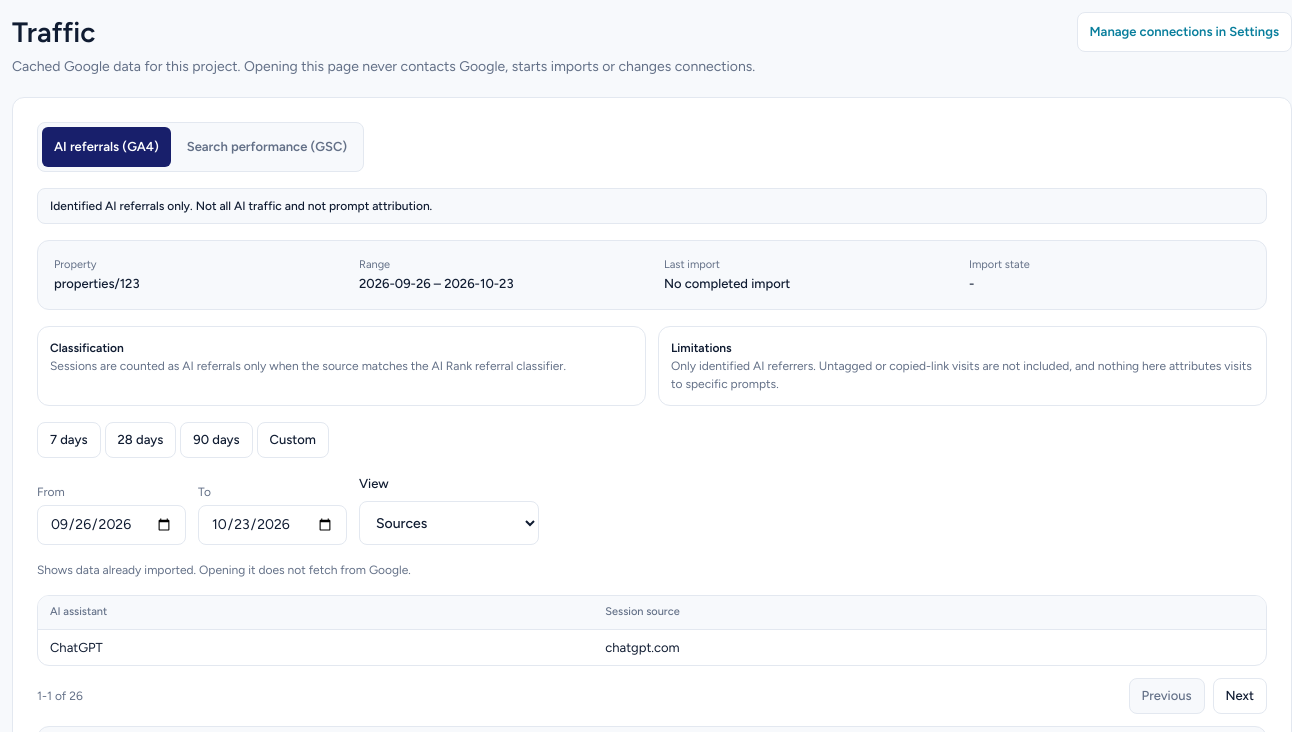
it: Traffic cached reports › resets pagination for presets and disables invalid date requests
Click the button "Next".
click(1240, 696)  # box [1212,678,1267,714]
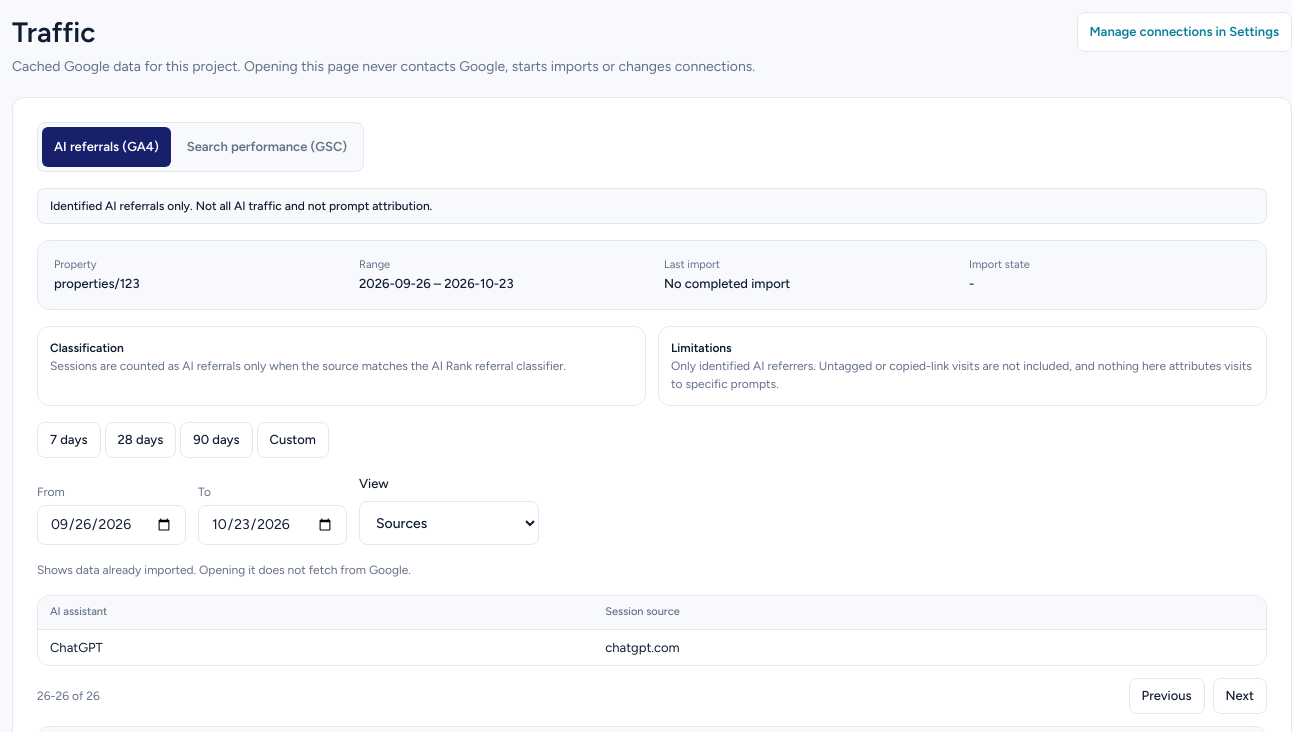
Click the button with test id "button-range-7".
click(69, 440)  # box [37,422,100,458]
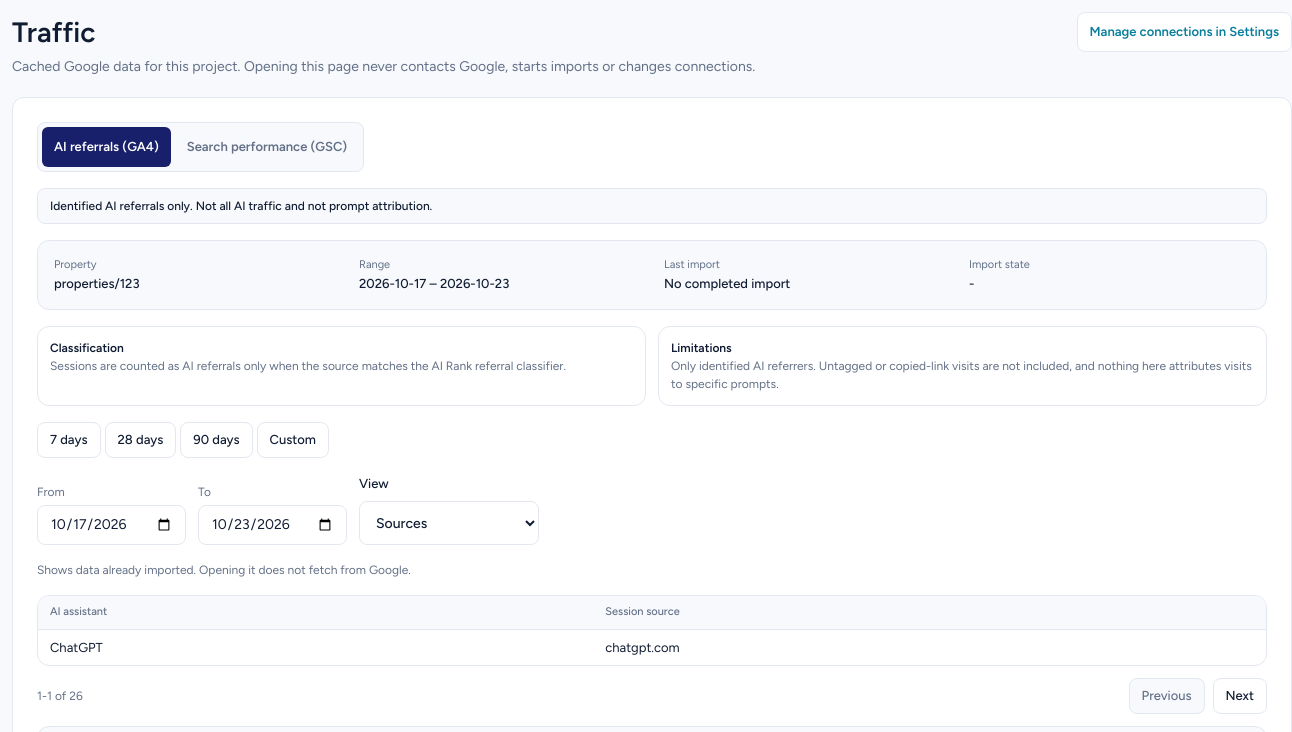
Type "1900-01-01" into the date field with test id "traffic-from-ga4".
click(112, 525); type("1900-01-01")  # box [37,505,186,545]
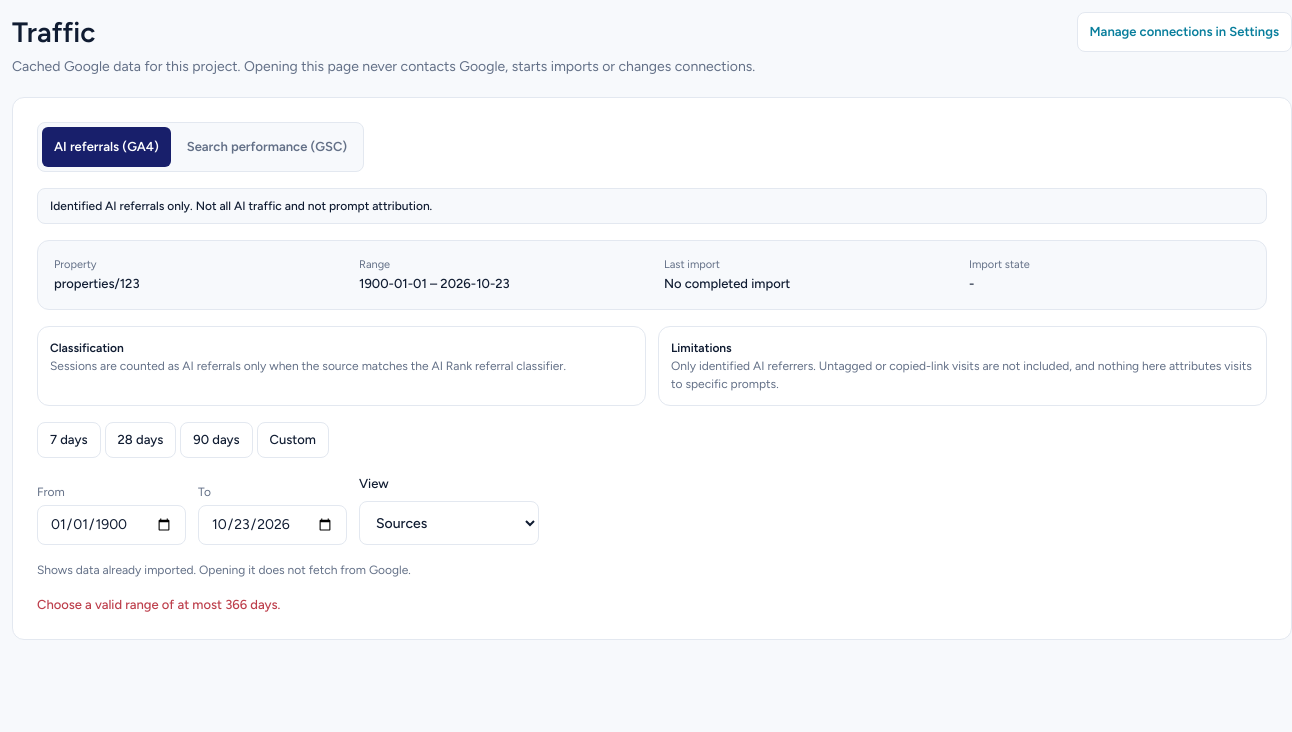
Expected: the text "Choose a valid range of at most 366 days." is shown, [37,597,280,612]
Expected: the text "ChatGPT" is gone
